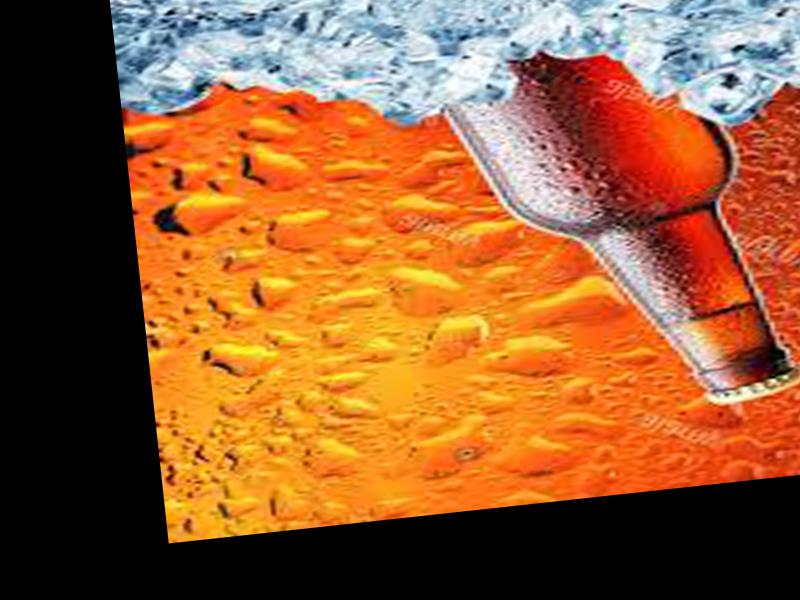Beer: (443, 23, 800, 430)
